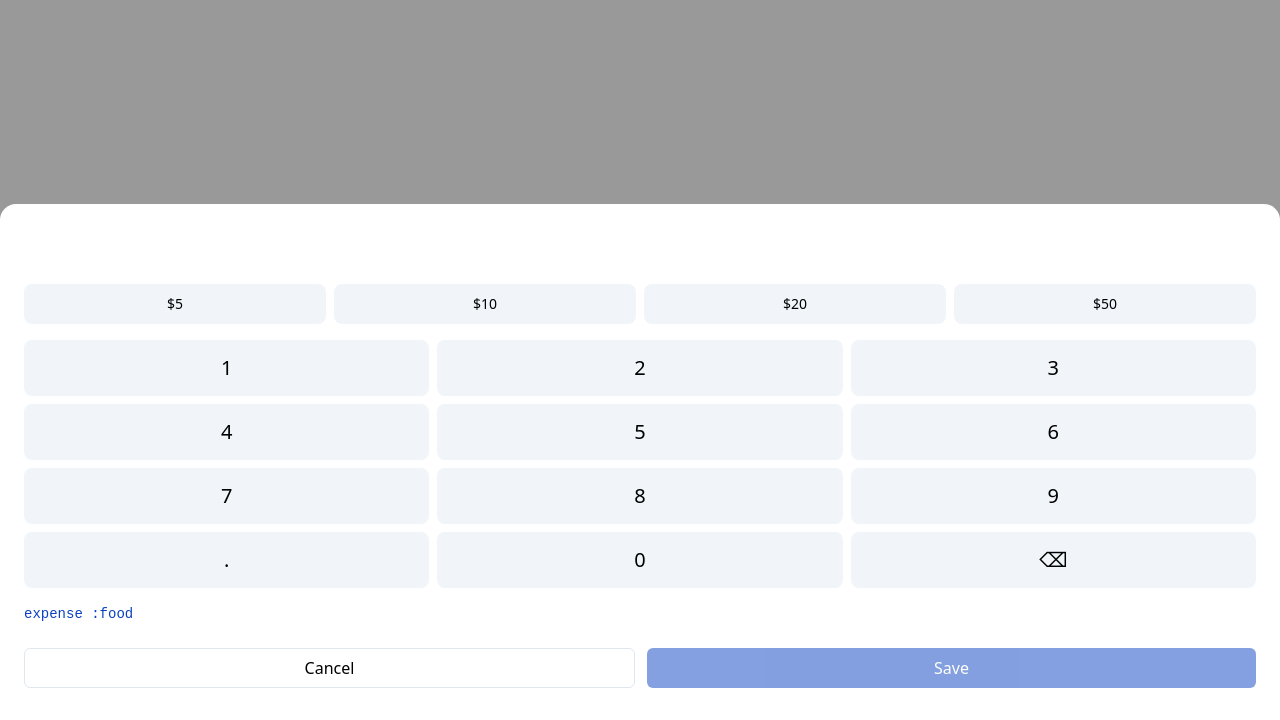
Test: HoleSheet › Save button is enabled once the amount hole has a value
The width and height of the screenshot is (1280, 720).
Click the button "5". click: (640, 432)
box: [437,404,843,460]
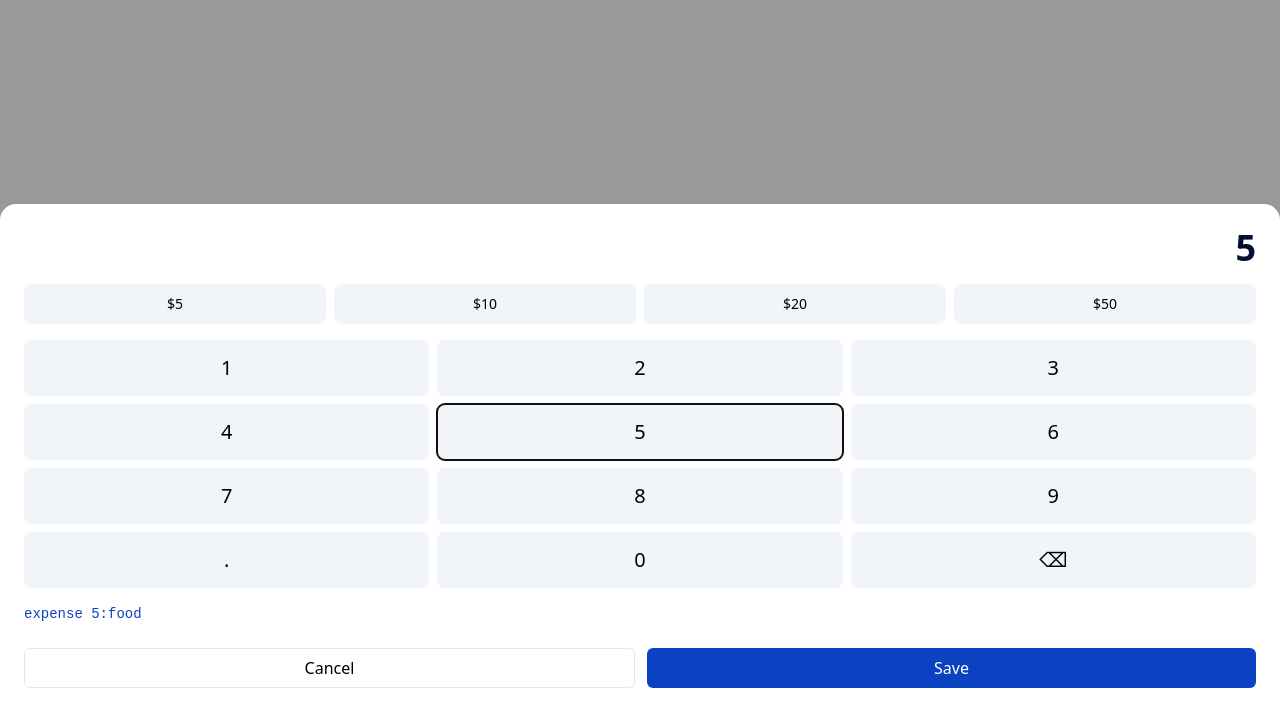
Expected: the button "Save" is enabled, [647,648,1256,688]
